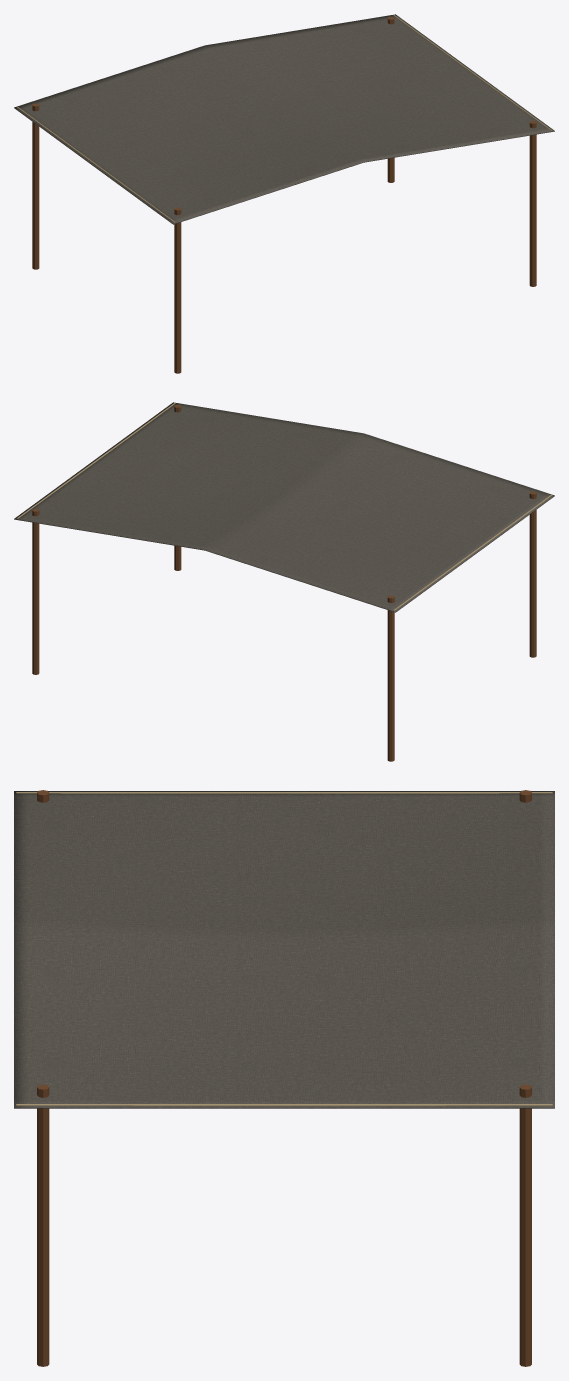
Rendered from SupplyCanopy.fbx.
3 views of the same model, one above another, from view 1: azimuth 30°, elevation 25°; view 2: azimuth 150°, elevation 25°; view 3: azimuth 270°, elevation 25° (orthographic). The views are drawn at different scales.
Visible parts, largest first — view 1: SupplyCanopy; view 2: SupplyCanopy; view 3: SupplyCanopy.
Part boxes in pixels (x1=…): SupplyCanopy: x1=14, y1=14, x2=554, y2=373; SupplyCanopy: x1=14, y1=402, x2=554, y2=761; SupplyCanopy: x1=14, y1=790, x2=554, y2=1366.
Bounding box in the file's own units: 720 × 312 × 520.
Materials: 1 (1 with a texture image).
